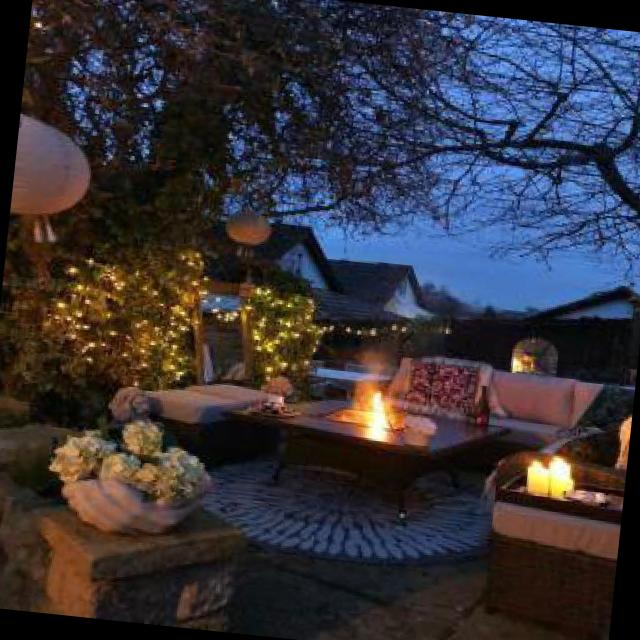Fire: (346, 379, 412, 444)
